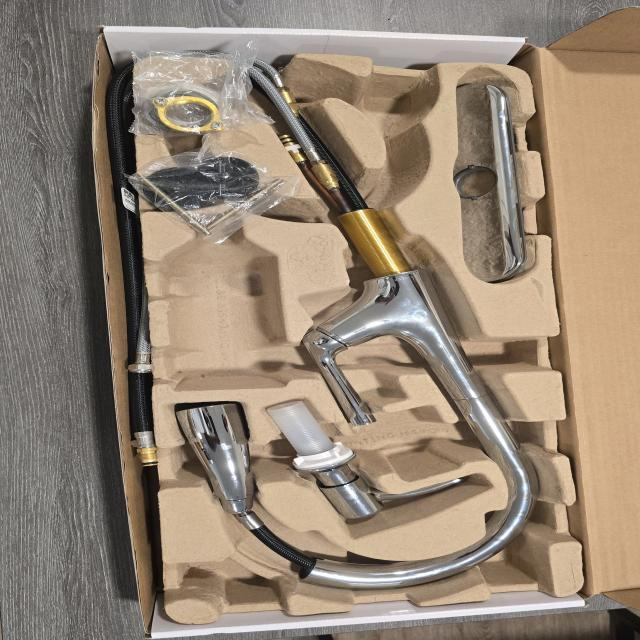1: (176, 53, 545, 591)
2: (264, 397, 461, 519)
3m: (167, 215, 280, 390)
4: (454, 83, 526, 281)
5m: (361, 78, 427, 130)
6: (122, 41, 278, 136)
7: (125, 133, 304, 247)
